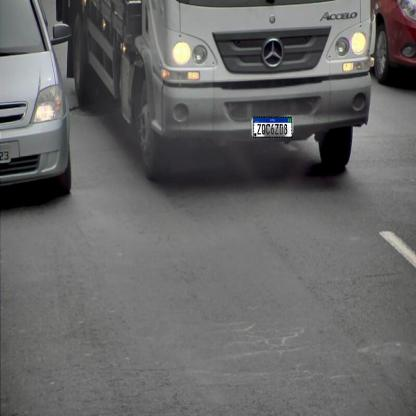PlacaM: (253, 116, 292, 138)
